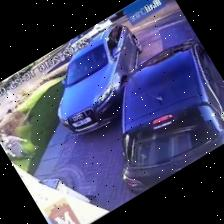person: (1, 136, 32, 159)
